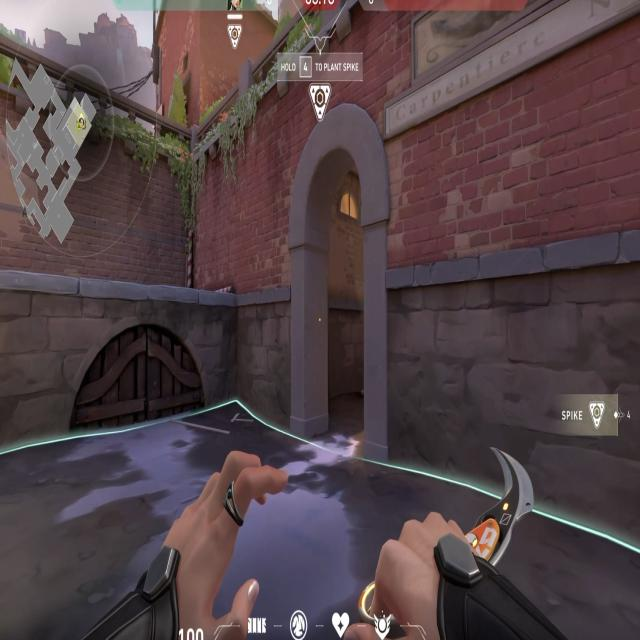B_Boathouse: (285, 101, 393, 471)
